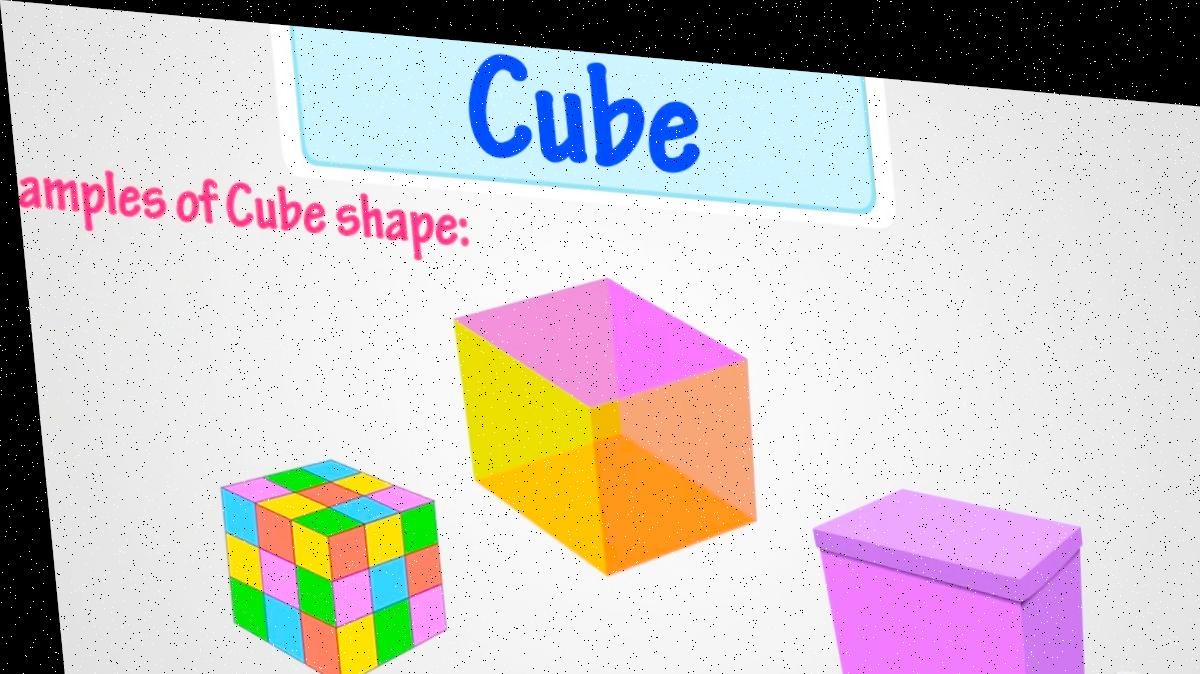cube: (442, 257, 761, 576), (799, 467, 1088, 674), (204, 447, 444, 674)
